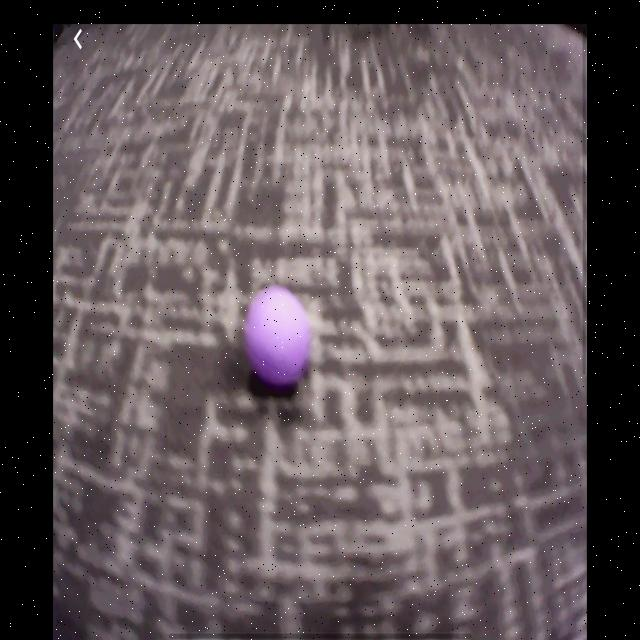ball: (245, 287, 312, 385)
